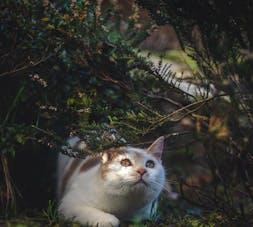kedo: (55, 136, 167, 226)
